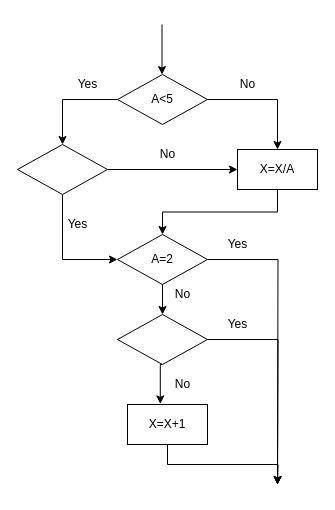
The diagram is 335 pixels wide and 510 high, and some of its shapes have lost their labels. Here are the shapes that lost their labels. From the top down, the centre of each, then its label:
pixel 62 169: B=5
pixel 162 339: X>2
